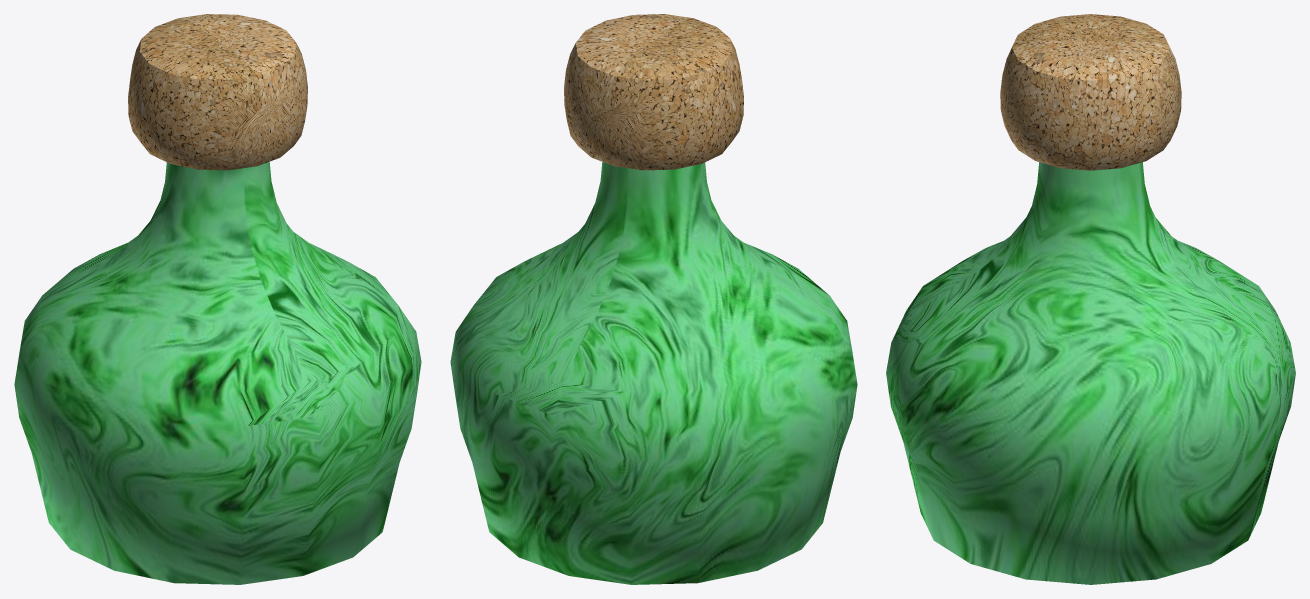
The model's file is HP_normal.FBX.
3 renders of one model, left to right at view 1: azimuth 30°, elevation 25°; view 2: azimuth 150°, elevation 25°; view 3: azimuth 270°, elevation 25°, orthographic.
Visible parts, largest first — view 1: Line004, Line005; view 2: Line004, Line005; view 3: Line004, Line005.
Boxes of the visible parts, <box> form: Line004: <box>14,162,421,584</box>; Line005: <box>128,14,307,170</box>; Line004: <box>450,162,857,584</box>; Line005: <box>564,14,743,170</box>; Line004: <box>886,162,1295,584</box>; Line005: <box>1000,14,1181,170</box>.
Bounding box in the file's own units: 36.13 × 47.44 × 36.13.
2 materials, 2 textured.
